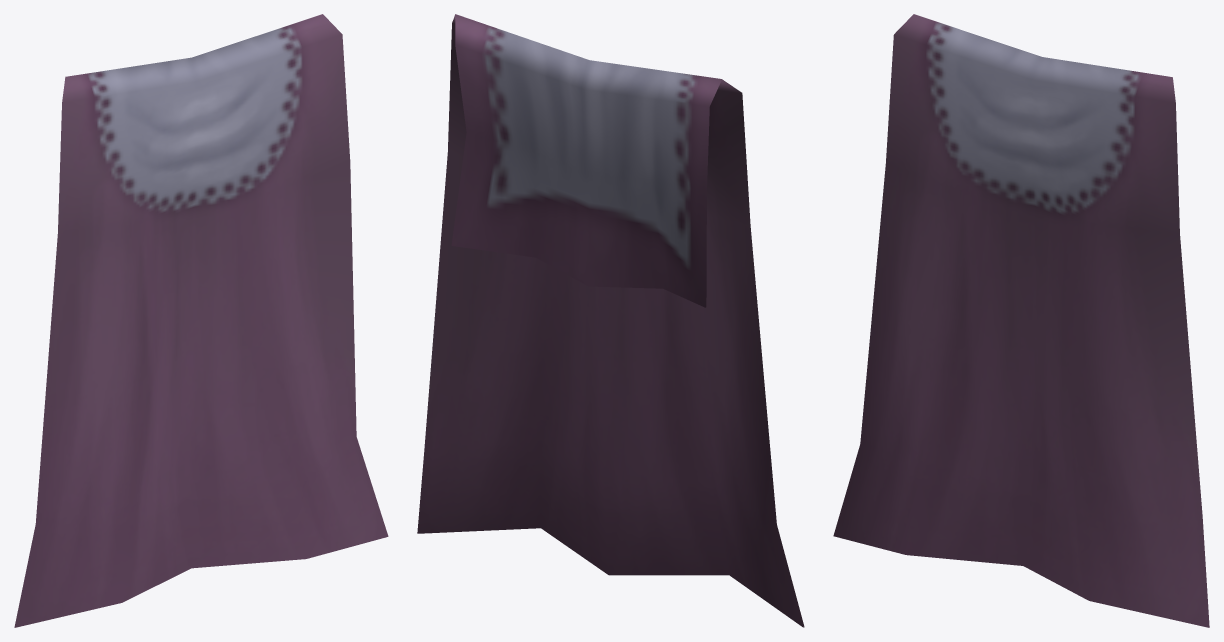
File: cloth_02.fbx
3 renders of one model, left to right at view 1: azimuth 30°, elevation 25°; view 2: azimuth 150°, elevation 25°; view 3: azimuth 330°, elevation 25°, orthographic. The views are drawn at different scales.
Visible parts, largest first — view 1: cloth_02; view 2: cloth_02; view 3: cloth_02.
Boxes of the visible parts, x1,y1,x2,y2 form: cloth_02: (14, 14, 388, 627); cloth_02: (417, 14, 804, 627); cloth_02: (833, 14, 1209, 627).
Bounding box in the file's own units: 58.89 × 78.98 × 11.56.
